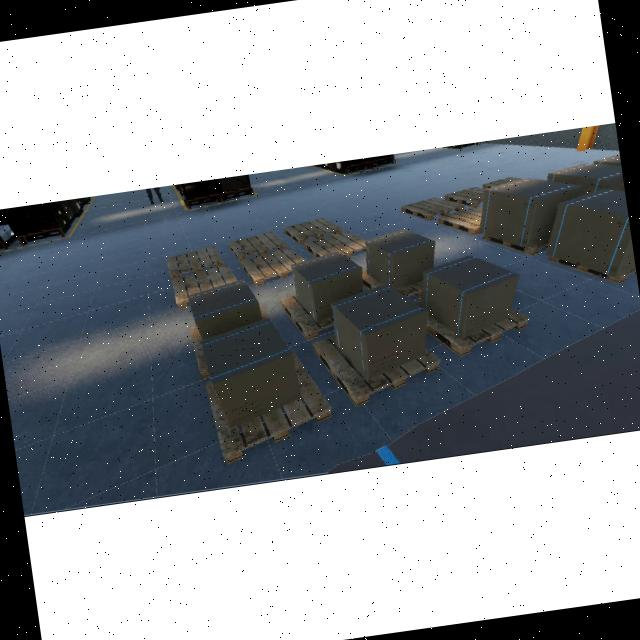wooden_pallet: (204, 349, 333, 465), (312, 333, 441, 407), (418, 299, 531, 356), (171, 261, 239, 309), (547, 253, 636, 283), (241, 246, 306, 286), (279, 294, 334, 339), (165, 245, 225, 282), (228, 229, 288, 262), (283, 217, 343, 246), (304, 231, 367, 258), (482, 232, 551, 256), (400, 196, 465, 221), (437, 206, 482, 236), (444, 186, 488, 208)
